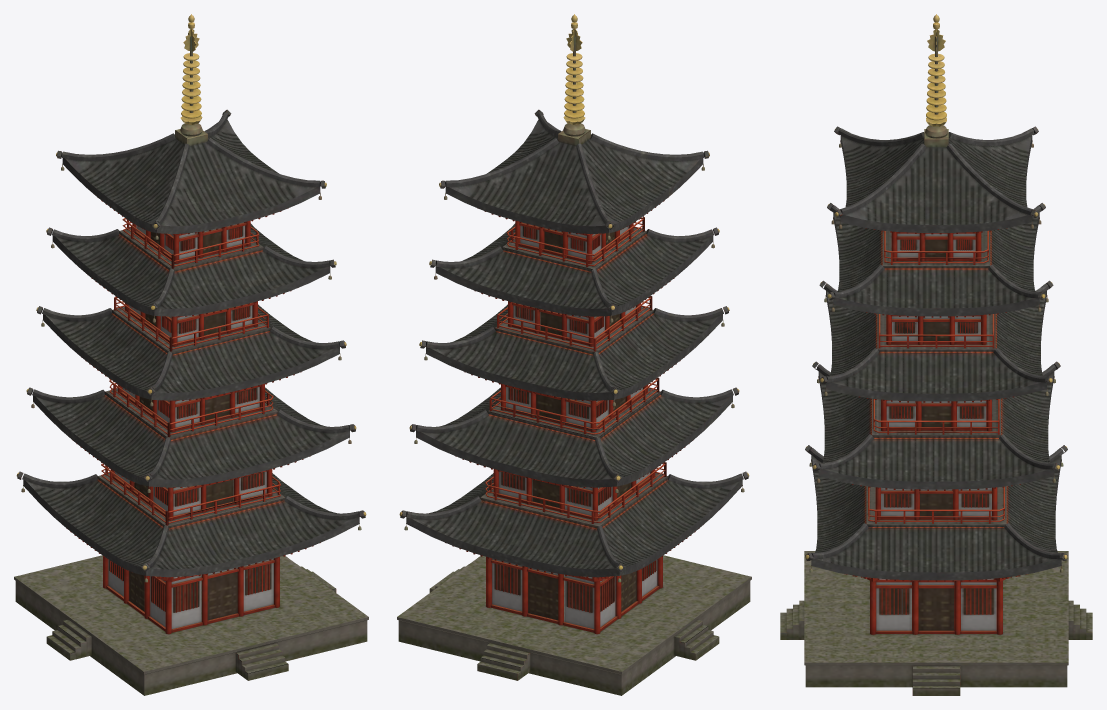
Rendered from shrine-pagoda.glb.
The picture shows the model from 3 angles, left to right: view 1: azimuth 30°, elevation 25°; view 2: azimuth 150°, elevation 25°; view 3: azimuth 270°, elevation 25°; orthographic projection.
Visible parts, largest first — view 1: lod0; view 2: lod0; view 3: lod0.
Part boxes in pixels (x1=…): lod0: x1=14, y1=14, x2=368, y2=695; lod0: x1=397, y1=14, x2=751, y2=695; lod0: x1=780, y1=14, x2=1092, y2=695.
Size of what is drawn, in the model's own units: 15.76 by 34.37 by 15.76.
Materials: 1 (1 with a texture image).
